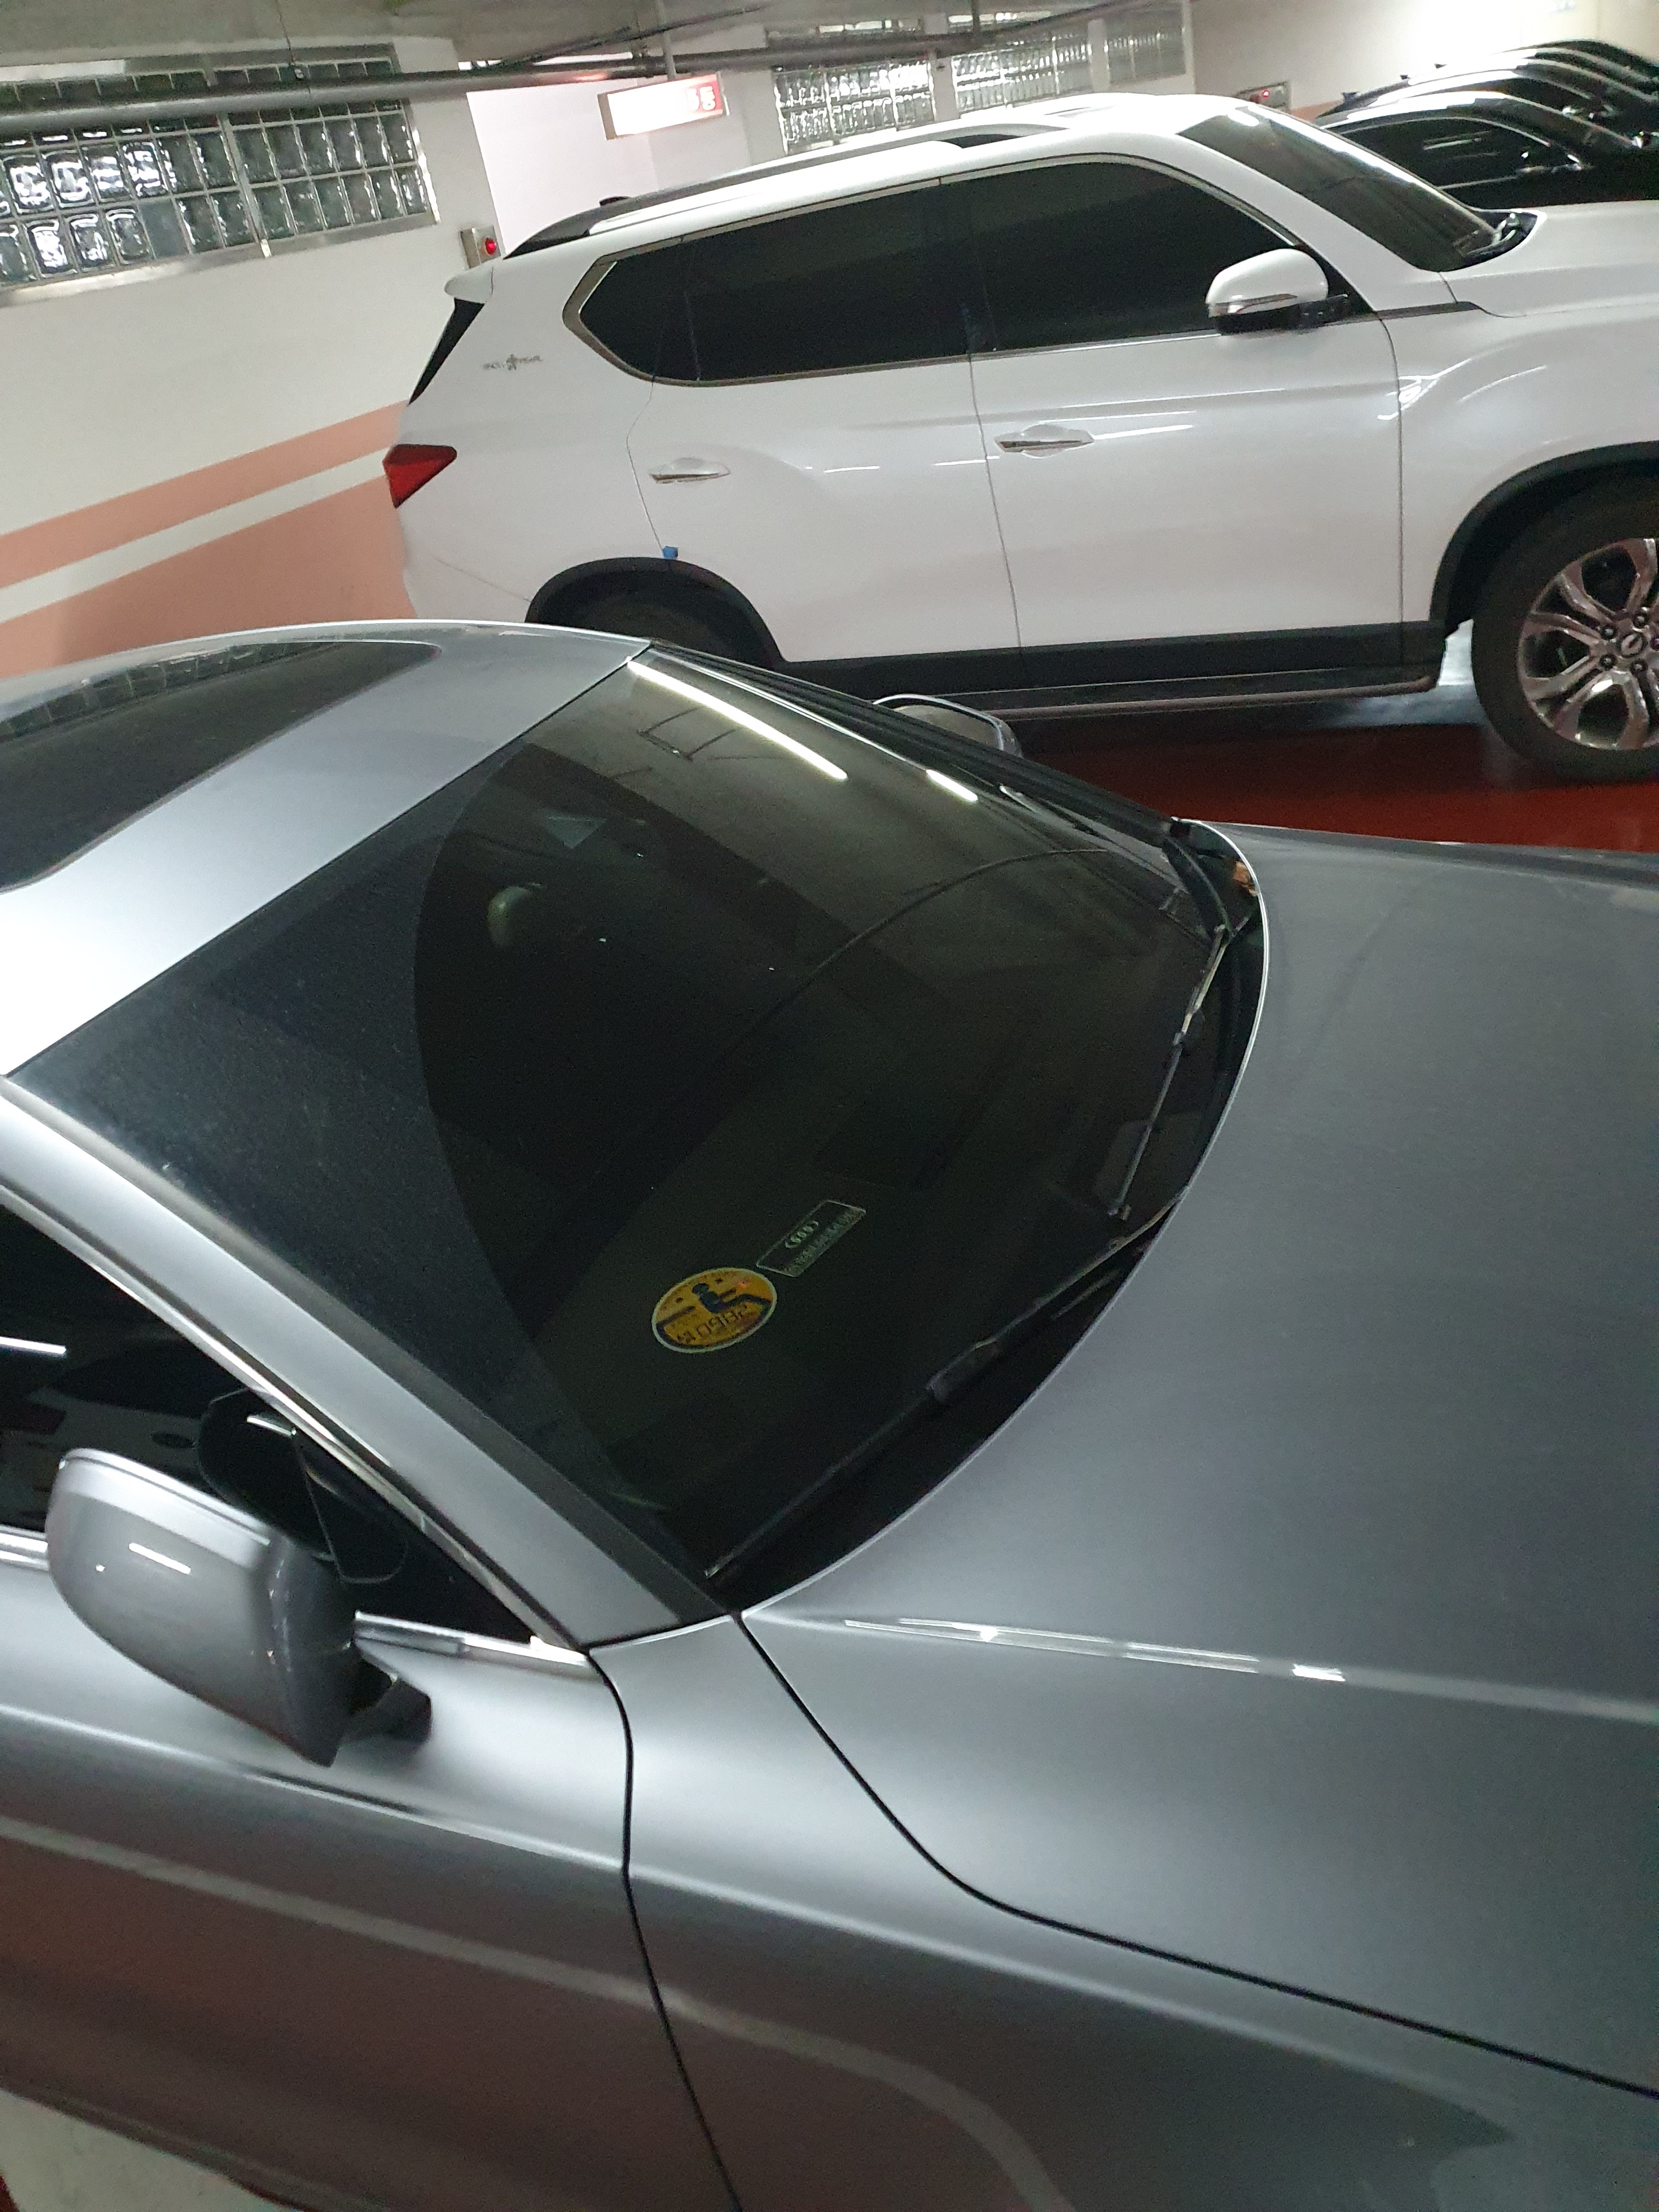disabled_parking: (634, 1261, 788, 1359)
etc: (744, 1191, 877, 1275)
